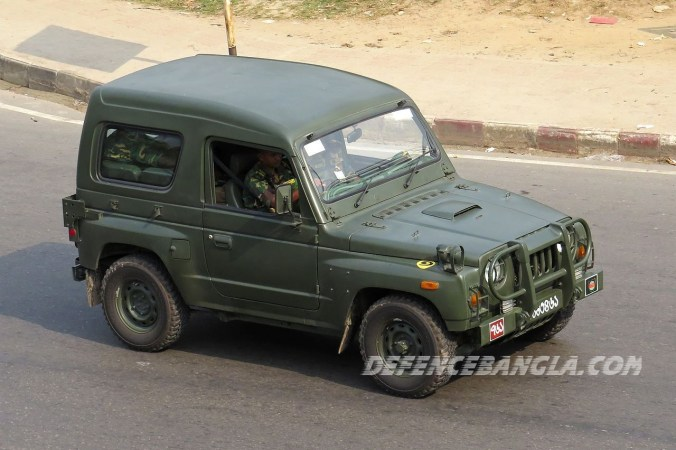army vehicle: (61, 51, 607, 398)
